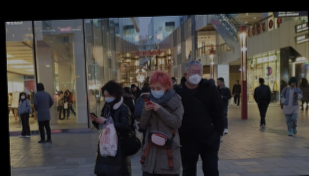with_mask: (185, 67, 202, 84), (149, 83, 165, 98), (102, 92, 115, 102), (19, 92, 26, 98), (235, 79, 239, 83)
without_mask: (130, 85, 137, 92), (215, 79, 222, 85), (289, 80, 297, 85)
